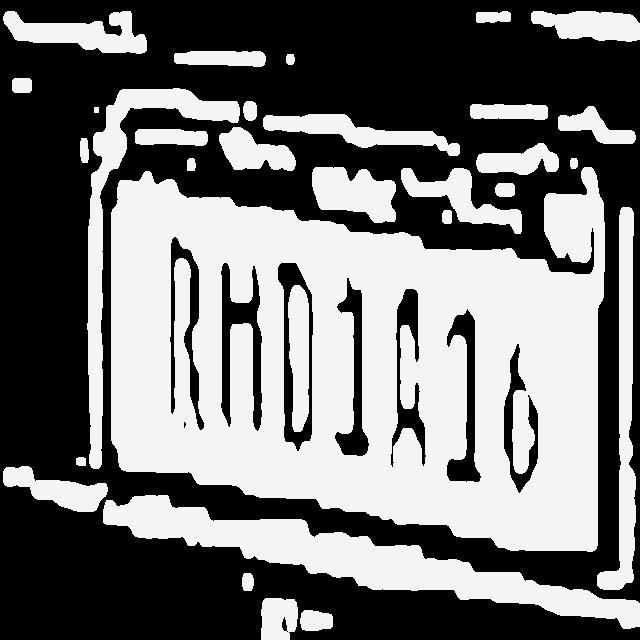1: (328, 272, 374, 461), (441, 306, 484, 486)
6: (498, 328, 544, 498)
a: (386, 284, 429, 474)
d: (275, 258, 320, 450)
h: (215, 254, 267, 437)
r: (160, 236, 210, 432)
